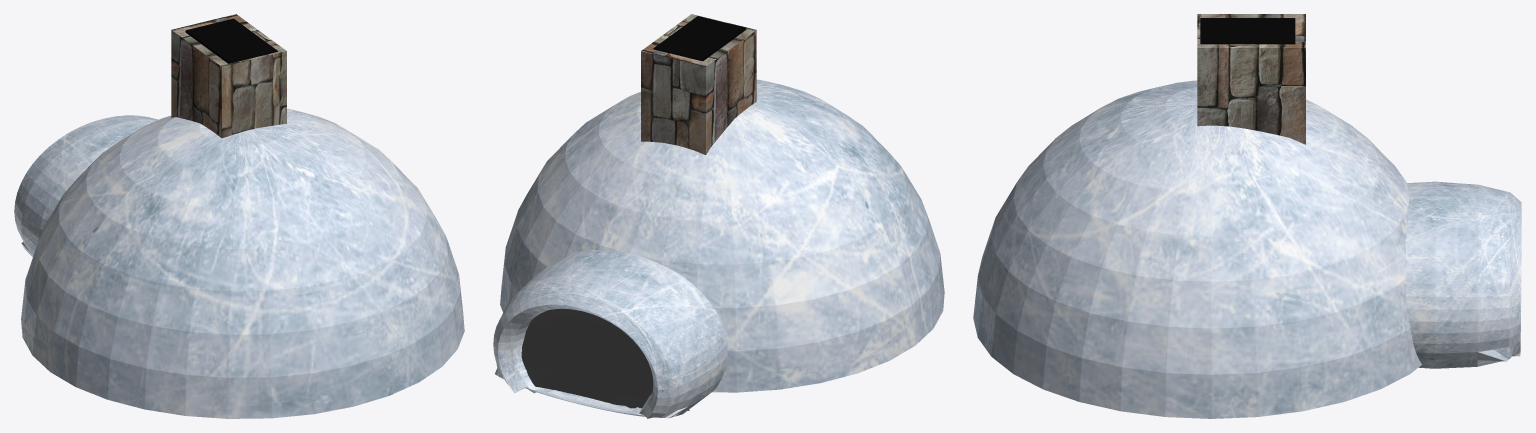
Rendered from huta_igloo.fbx.
3 views of the same model, side by side, from view 1: azimuth 30°, elevation 25°; view 2: azimuth 150°, elevation 25°; view 3: azimuth 270°, elevation 25° (orthographic). The views are drawn at different scales.
Visible parts, largest first — view 1: Sphere, Cube.001, Torus, Cube; view 2: Sphere, Torus, Cube.001, Cylinder, Cube; view 3: Sphere, Torus, Cube.001, Cube.
Part boxes in pixels (x1=…): Sphere: x1=21, y1=108, x2=464, y2=418; Cube.001: x1=171, y1=14, x2=286, y2=138; Torus: x1=14, y1=115, x2=158, y2=256; Cube: x1=185, y1=18, x2=277, y2=63; Sphere: x1=500, y1=79, x2=944, y2=392; Torus: x1=493, y1=249, x2=727, y2=418; Cube.001: x1=641, y1=14, x2=756, y2=154; Cylinder: x1=521, y1=309, x2=689, y2=410; Cube: x1=653, y1=16, x2=745, y2=61; Sphere: x1=973, y1=80, x2=1421, y2=418; Torus: x1=1405, y1=181, x2=1521, y2=368; Cube.001: x1=1197, y1=14, x2=1305, y2=144; Cube: x1=1200, y1=18, x2=1295, y2=44.
Bounding box in the file's own units: 200 × 143 × 230.
5 materials, 4 textured.
